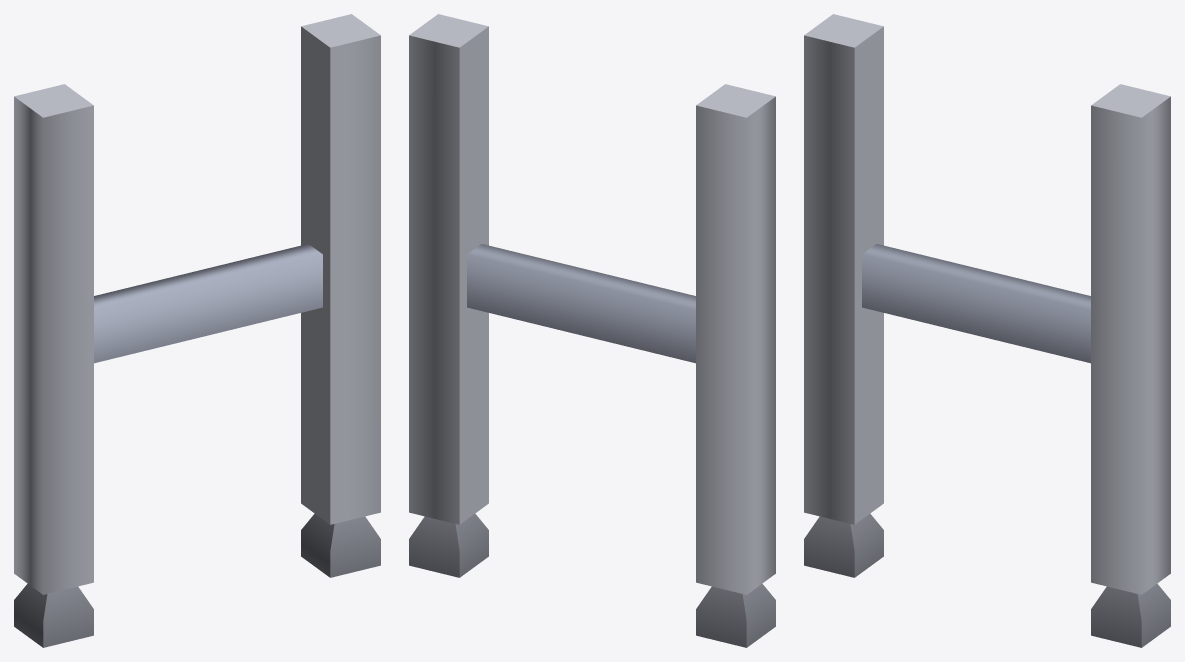
The model's file is structure-high.fbx.
The picture shows the model from 3 angles, left to right: view 1: azimuth 30°, elevation 25°; view 2: azimuth 150°, elevation 25°; view 3: azimuth 330°, elevation 25°; orthographic projection.
Parts seen in each view (by area): view 1: structure-high; view 2: structure-high; view 3: structure-high.
Part boxes in pixels (left/top/right/bottom): structure-high: left=14, top=14, right=380, bottom=647; structure-high: left=409, top=14, right=775, bottom=647; structure-high: left=804, top=14, right=1170, bottom=647.
Bounding box in the file's own units: 100 × 150 × 15.
